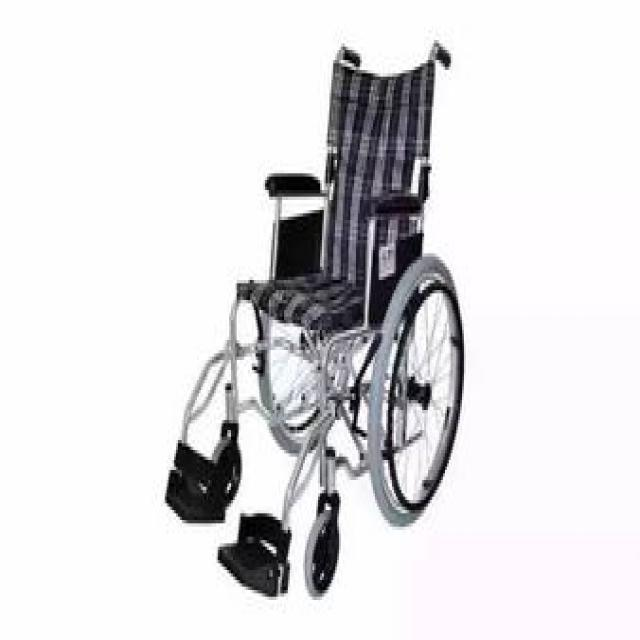wheelchairs: (169, 44, 463, 594)
